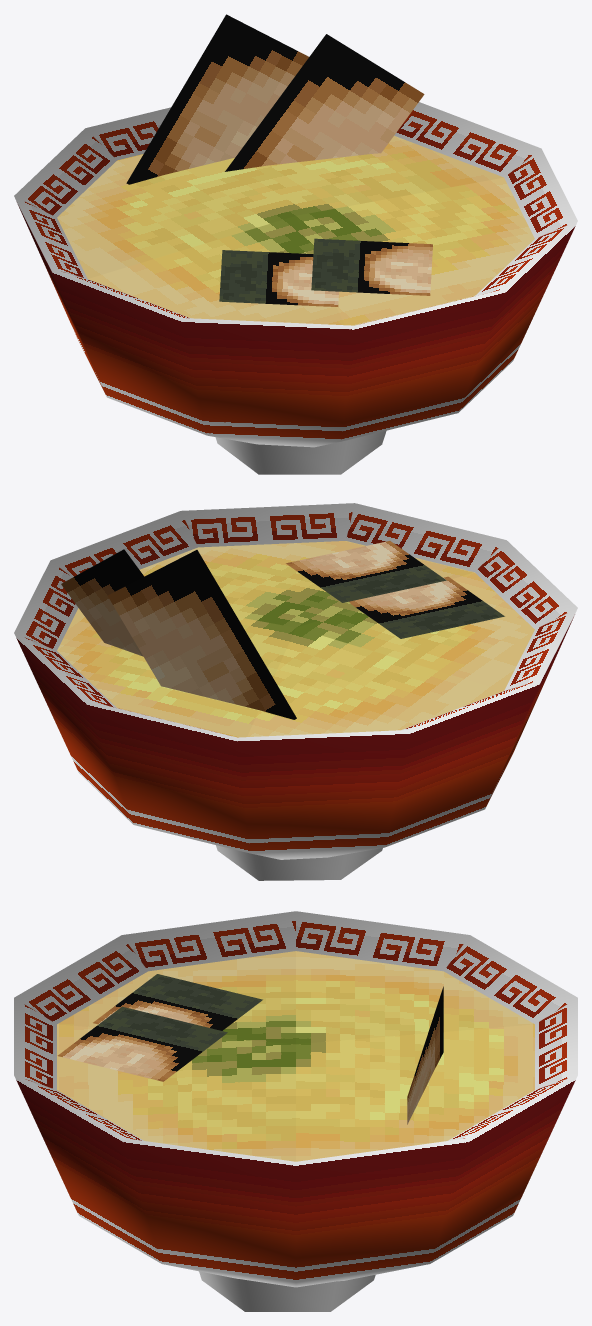
The picture shows the model from 3 angles, top to bottom: view 1: azimuth 30°, elevation 25°; view 2: azimuth 150°, elevation 25°; view 3: azimuth 270°, elevation 25°; orthographic projection. The views are drawn at different scales.
Parts seen in each view (by area): view 1: ramen_solt; view 2: ramen_solt; view 3: ramen_solt.
Boxes of the visible parts, x1=… form: ramen_solt: x1=14, y1=14, x2=577, y2=474; ramen_solt: x1=14, y1=503, x2=577, y2=880; ramen_solt: x1=14, y1=911, x2=577, y2=1311.
Size of the model in its own units: 0.7769 by 0.5618 by 0.7388.
3 materials, 3 textured.
